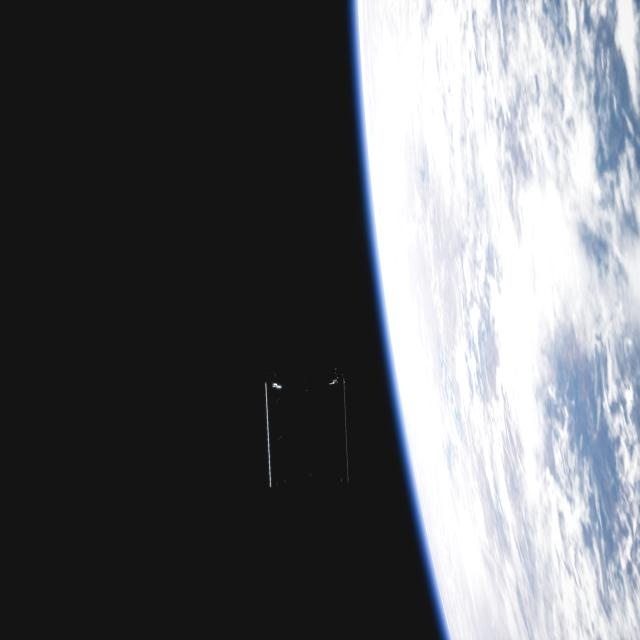medium_debris: (257, 359, 363, 513)
